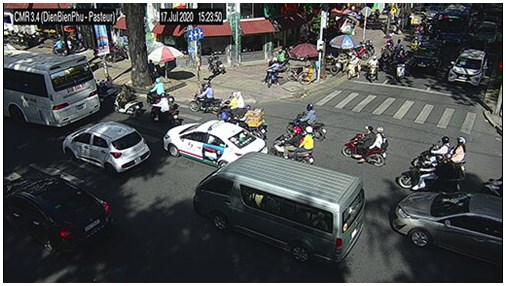xe_buyt: (5, 52, 101, 127), (441, 5, 470, 41)
xe_hoi: (193, 152, 367, 264), (390, 191, 502, 266), (4, 178, 111, 254), (162, 121, 268, 167), (63, 120, 151, 173), (448, 49, 487, 86), (412, 41, 445, 75), (475, 20, 497, 43)
xe_may: (398, 154, 459, 192), (342, 125, 388, 167), (412, 137, 466, 171), (272, 125, 314, 164), (288, 104, 327, 141), (237, 105, 267, 140), (190, 82, 220, 115), (150, 94, 179, 126), (114, 83, 140, 118), (218, 92, 244, 122), (147, 78, 173, 105), (96, 74, 117, 100), (482, 174, 503, 195), (345, 54, 361, 79), (379, 42, 391, 71), (366, 56, 378, 83), (394, 55, 406, 80)
